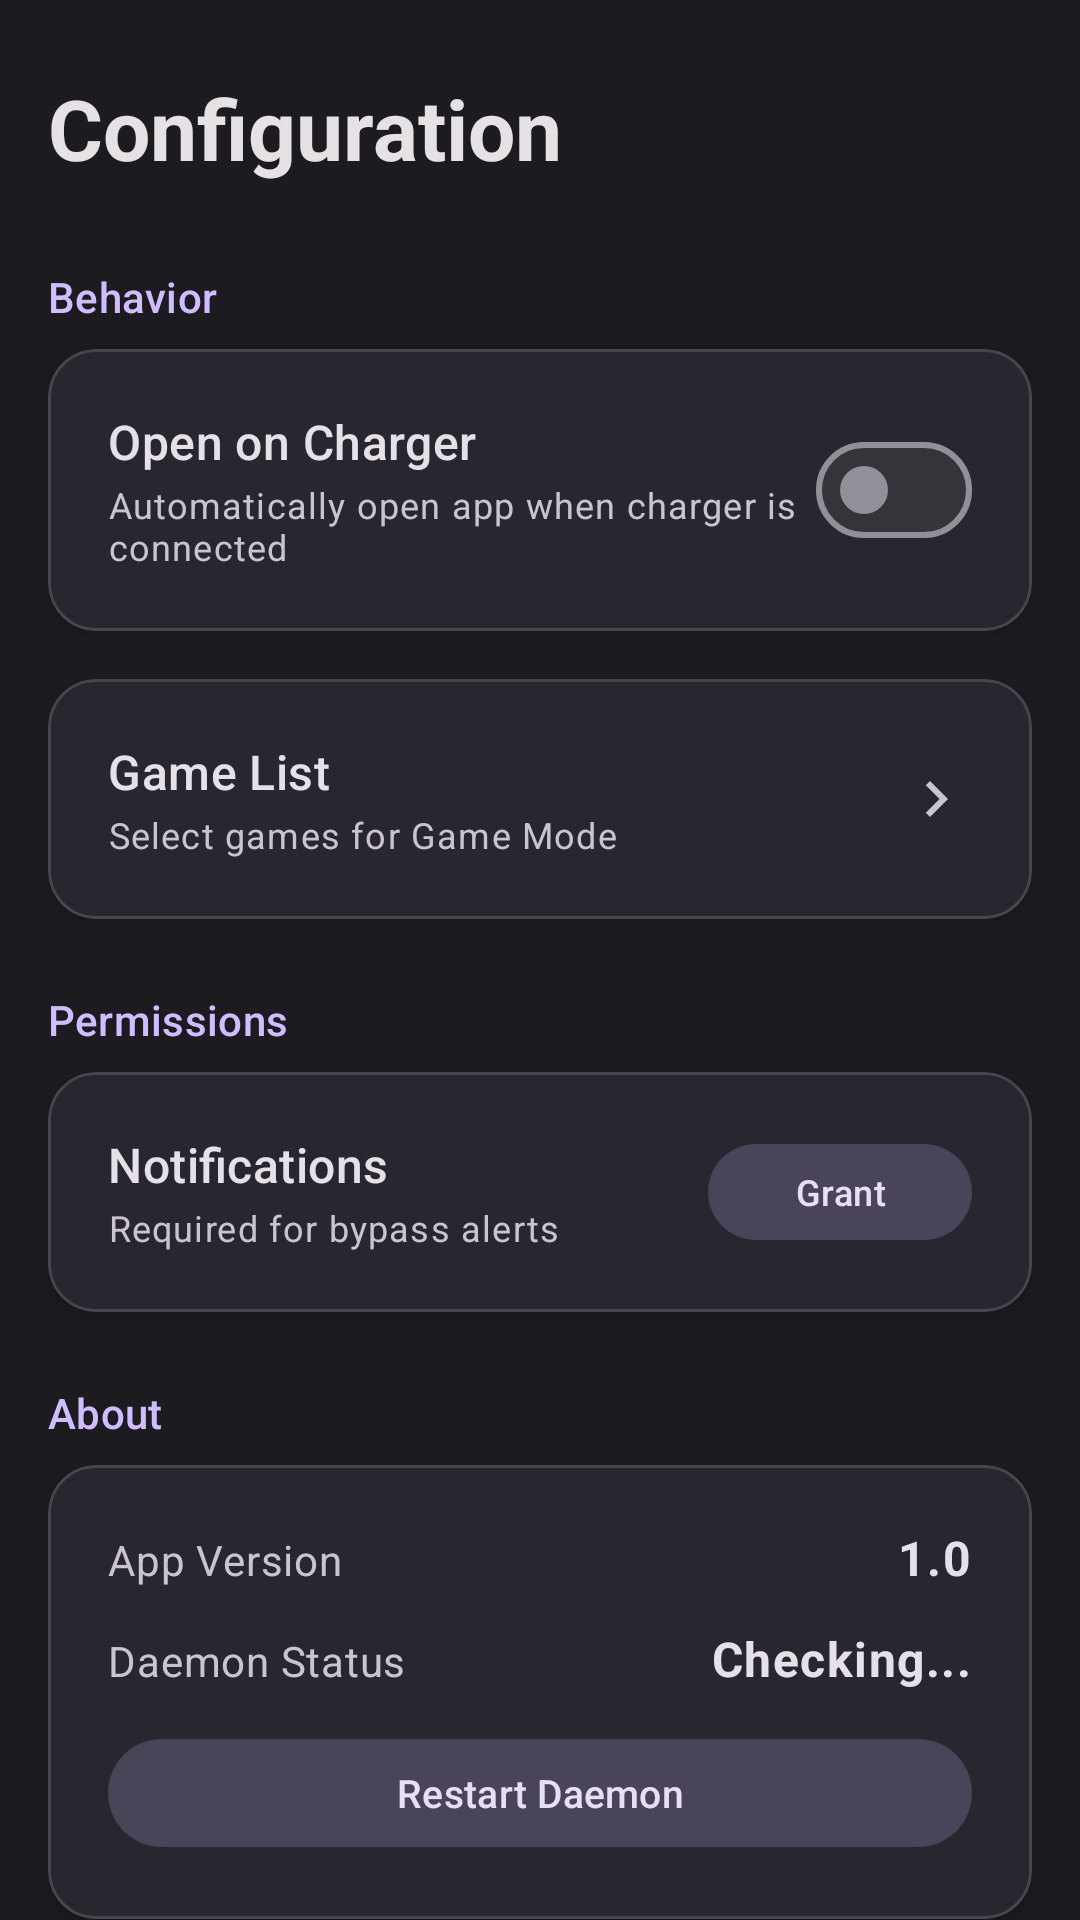

Screen size 1080 × 1920. Icon name, then its center in pixels as [x,y]:
chevron right: [937,799]
